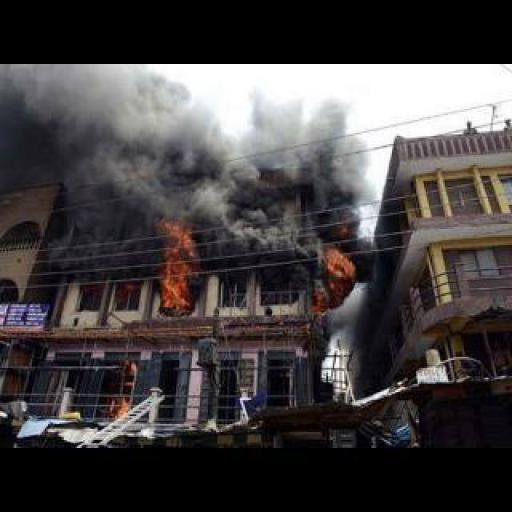smoke: (2, 83, 372, 277), (158, 219, 204, 323), (306, 242, 363, 315), (114, 357, 140, 427)
